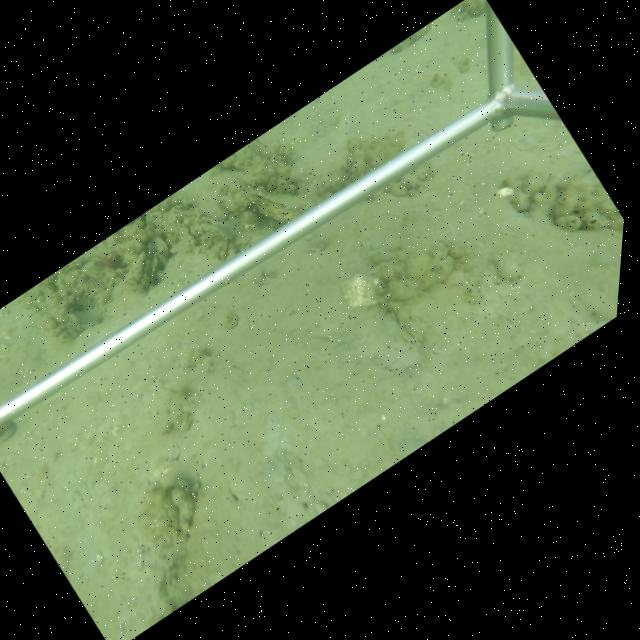Oyster-Closed: (246, 183, 318, 221)
Oyster-Indeterminate: (148, 234, 169, 257)
